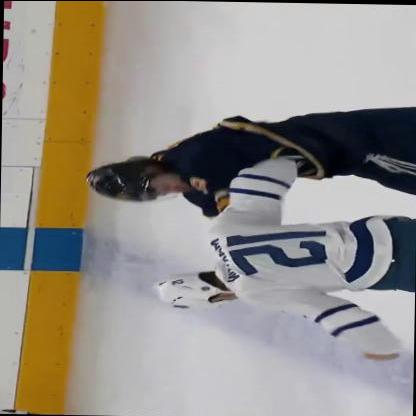voilence: (81, 100, 415, 359)
